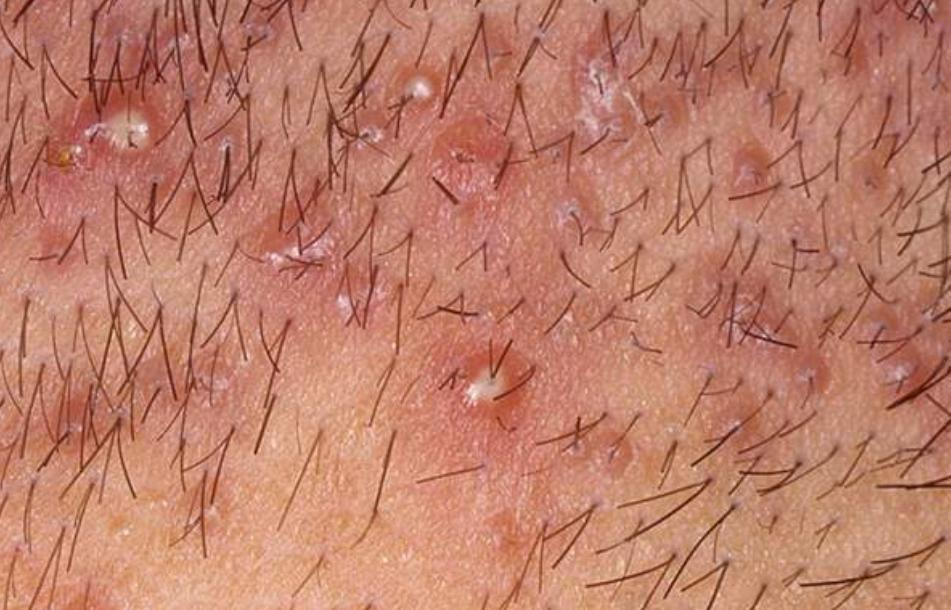folliculitis: (377, 48, 463, 134), (449, 345, 541, 425), (95, 88, 177, 177), (866, 337, 935, 409)
